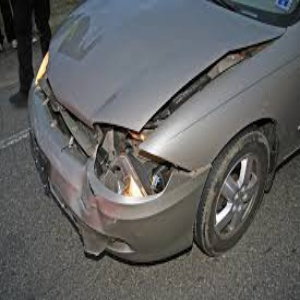bonnet: (81, 34, 200, 134)
bumper: (70, 162, 206, 266)
